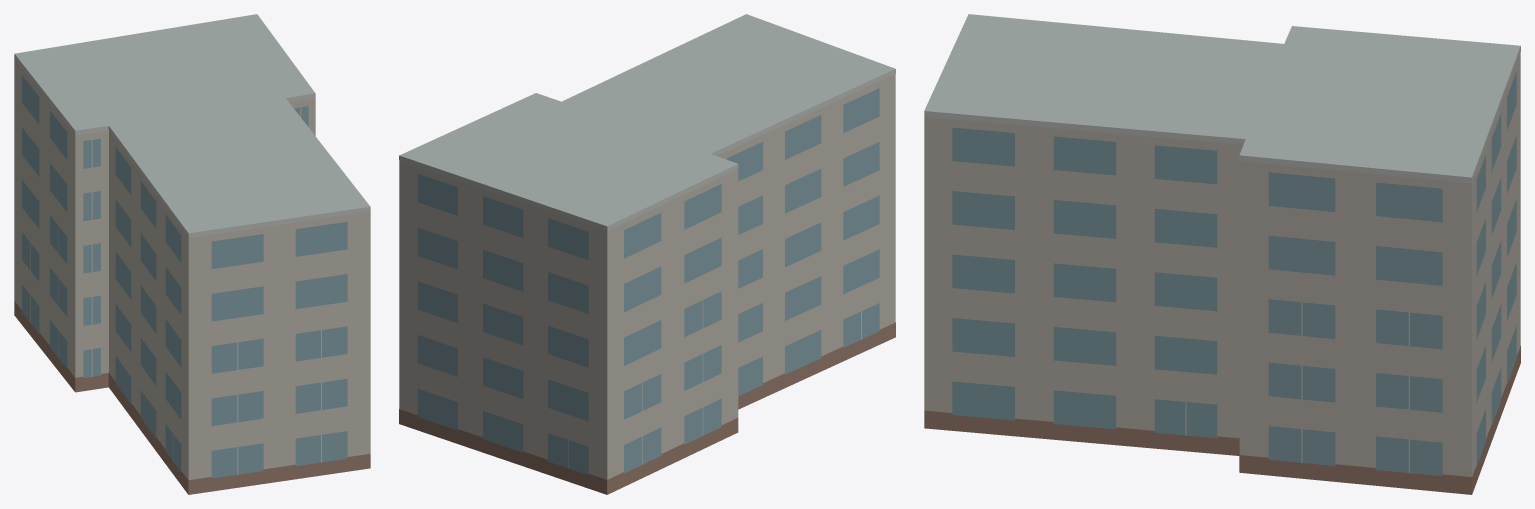
File: survey-upis-32563869.glb
The picture shows the model from 3 angles, left to right: view 1: azimuth 30°, elevation 25°; view 2: azimuth 150°, elevation 25°; view 3: azimuth 270°, elevation 25°; orthographic projection. The views are drawn at different scales.
Visible parts, largest first — view 1: survey-upis-32563869.tmp; view 2: survey-upis-32563869.tmp; view 3: survey-upis-32563869.tmp.
Boxes of the visible parts, bbox=[...] form: survey-upis-32563869.tmp: bbox=[14, 14, 370, 494]; survey-upis-32563869.tmp: bbox=[399, 14, 895, 494]; survey-upis-32563869.tmp: bbox=[924, 14, 1520, 494].
Bounding box in the file's own units: 14.71 × 13.3 × 22.67.
